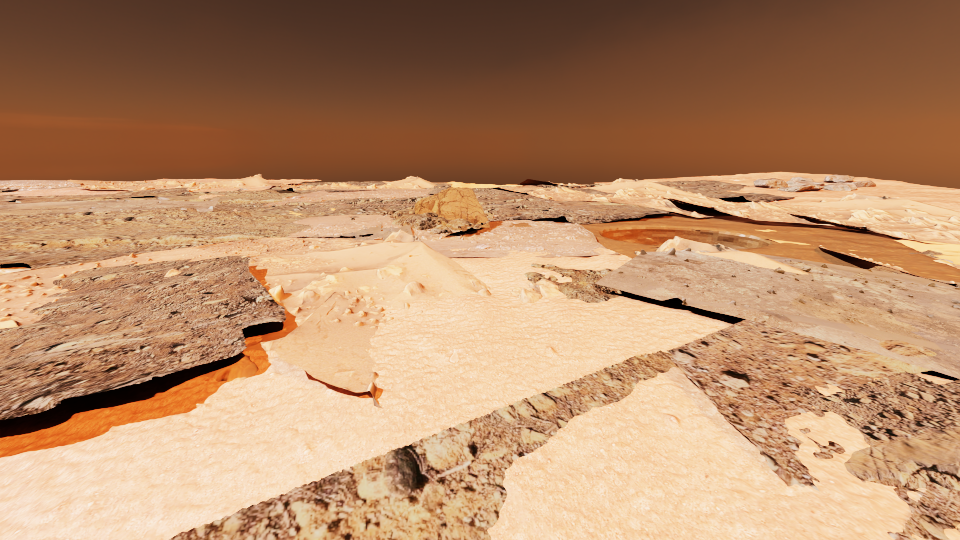bedrock: (0, 242, 959, 539), (484, 176, 959, 258), (301, 152, 670, 181), (787, 451, 907, 539), (661, 155, 908, 174), (216, 236, 298, 266), (872, 274, 959, 292), (0, 178, 82, 197), (242, 162, 339, 177), (67, 159, 199, 169), (0, 171, 81, 183), (374, 212, 417, 232), (886, 173, 959, 184), (209, 213, 341, 219), (857, 210, 934, 220), (0, 218, 67, 229), (237, 217, 330, 224), (260, 191, 362, 197), (0, 233, 42, 247), (22, 199, 128, 204), (34, 205, 104, 210), (614, 179, 672, 185), (676, 182, 746, 186), (910, 165, 959, 170), (204, 160, 252, 164), (815, 220, 853, 225), (855, 269, 883, 275), (669, 165, 711, 168), (402, 186, 416, 193), (659, 151, 682, 154), (790, 252, 805, 256), (946, 257, 959, 261)
rocks: (354, 179, 517, 207), (294, 209, 391, 254), (162, 149, 206, 163), (430, 195, 471, 207), (593, 149, 624, 159), (685, 148, 728, 153)
sand: (601, 280, 959, 539), (653, 229, 959, 340), (0, 229, 312, 310), (703, 188, 959, 241), (244, 162, 522, 191), (197, 191, 494, 216), (543, 205, 686, 230), (389, 213, 498, 242), (629, 166, 787, 180), (631, 179, 771, 193), (0, 179, 72, 194), (390, 176, 470, 186), (716, 272, 774, 284), (853, 239, 908, 250), (660, 148, 718, 156), (896, 169, 959, 174), (723, 149, 768, 156), (697, 163, 750, 168), (507, 164, 573, 167), (0, 195, 33, 200), (263, 158, 314, 161), (228, 157, 266, 160), (378, 155, 406, 159), (370, 161, 419, 163), (943, 180, 959, 185)
soil: (0, 237, 412, 354), (0, 157, 360, 270), (0, 346, 282, 485), (637, 358, 802, 539), (452, 381, 611, 534), (422, 212, 722, 286), (303, 159, 540, 179), (386, 201, 548, 222), (65, 340, 199, 357), (571, 173, 713, 189), (813, 155, 959, 170), (507, 180, 600, 194), (792, 180, 887, 191), (636, 162, 729, 171), (874, 171, 934, 184), (898, 183, 959, 195), (761, 166, 816, 177), (83, 157, 139, 164), (646, 341, 672, 355), (658, 156, 715, 162), (553, 159, 591, 164), (502, 156, 547, 160), (0, 281, 16, 289), (126, 258, 138, 268), (663, 238, 680, 244), (130, 161, 162, 164), (940, 177, 959, 182), (743, 157, 771, 160), (201, 337, 218, 341), (207, 158, 234, 160)
